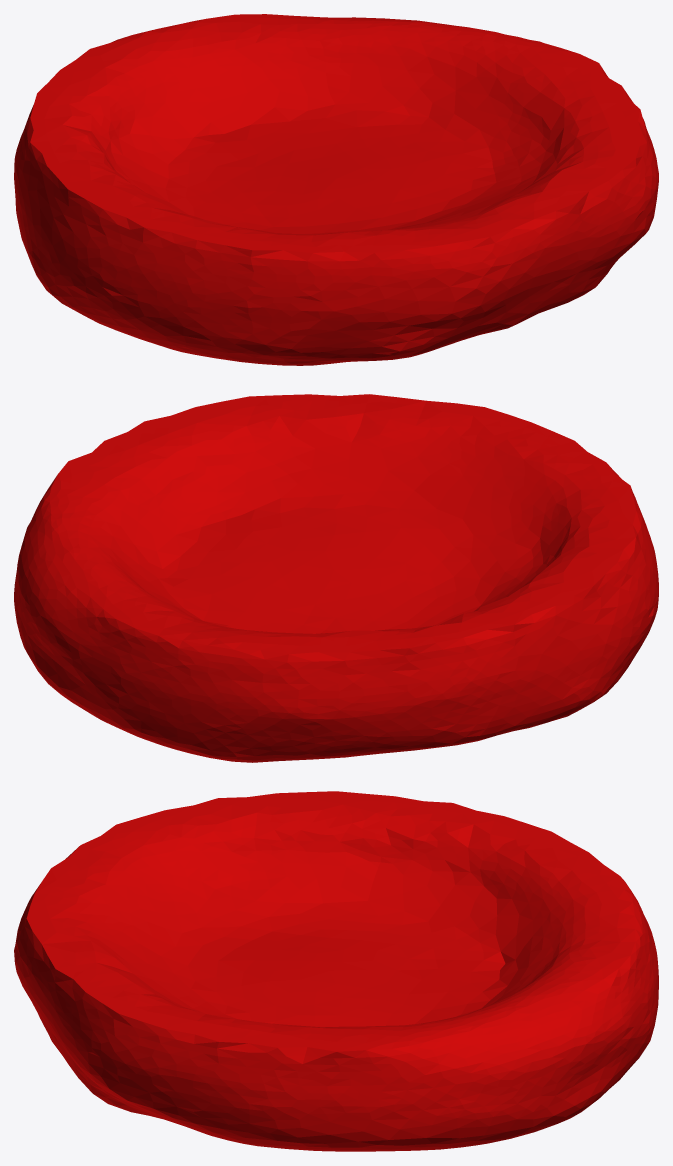
The model's file is RED.obj.
3 views of the same model, one above another, from view 1: azimuth 30°, elevation 25°; view 2: azimuth 150°, elevation 25°; view 3: azimuth 270°, elevation 25° (orthographic).
Visible parts, largest first — view 1: Cylinder; view 2: Cylinder; view 3: Cylinder.
Boxes of the visible parts, box(x1,y1,x2,y2) form: Cylinder: box(14, 14, 658, 365); Cylinder: box(14, 394, 658, 762); Cylinder: box(14, 791, 658, 1151).
Bounding box in the file's own units: 5.07 × 1.15 × 5.12.
